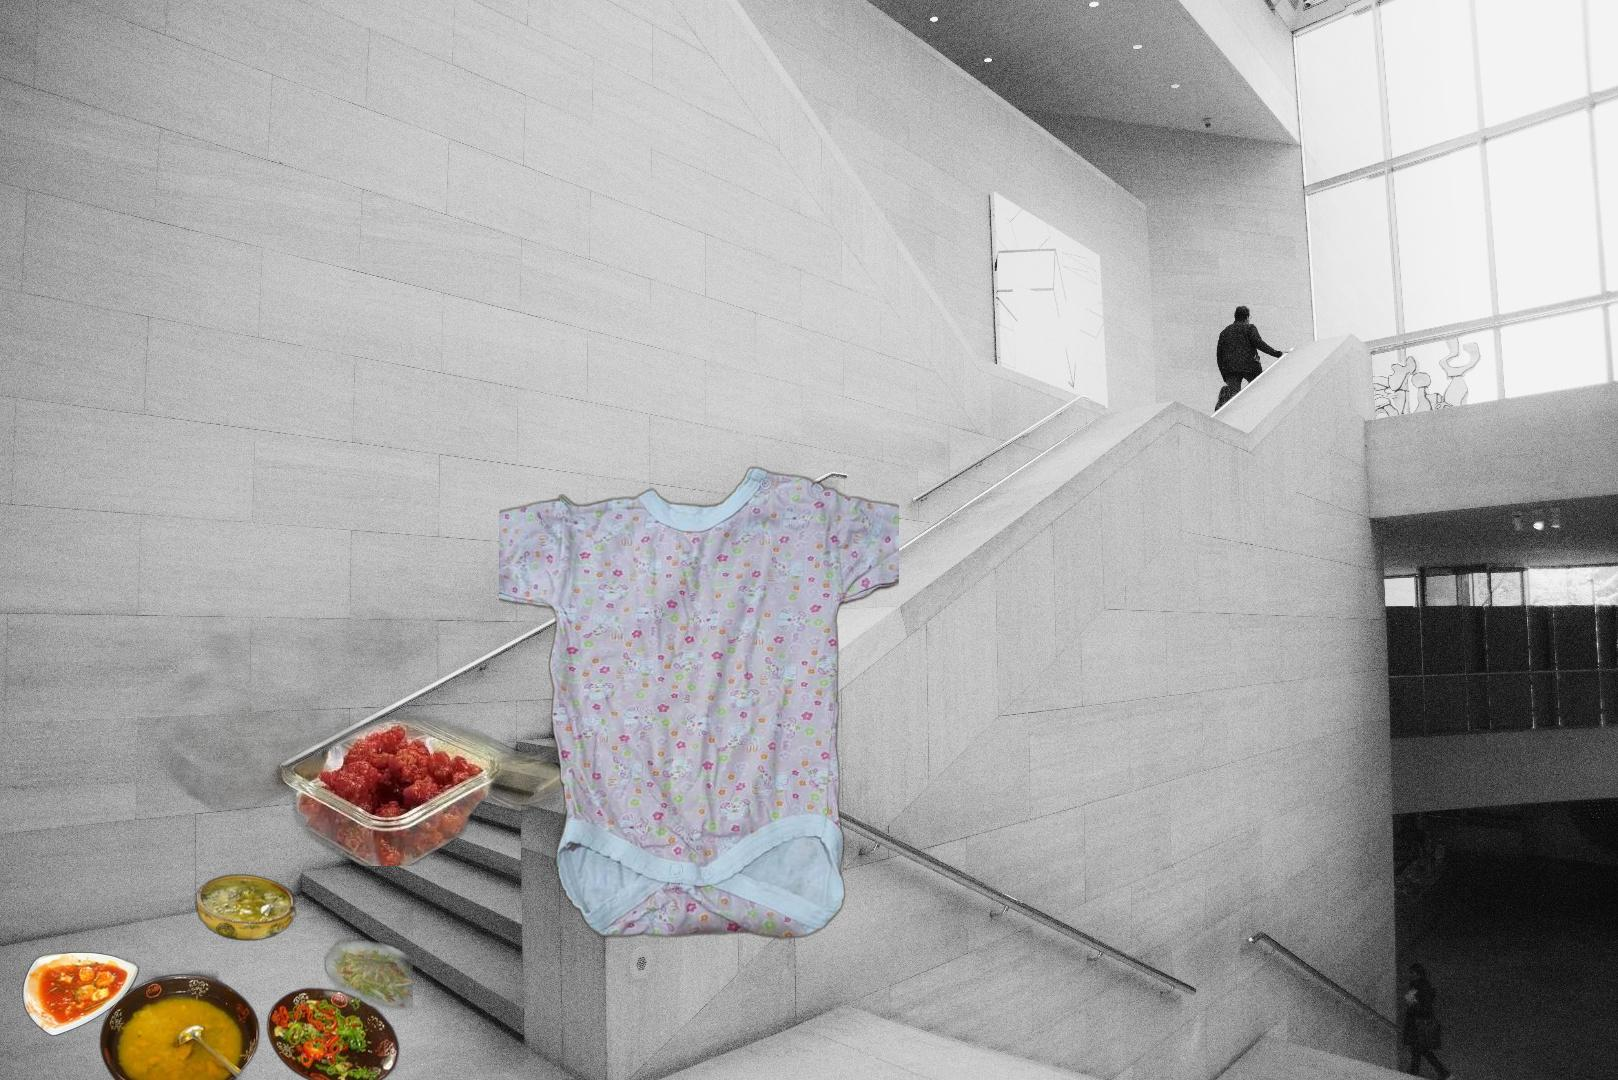biological: (88, 565, 624, 865), (13, 871, 413, 1080)
clothes: (499, 460, 899, 944)
